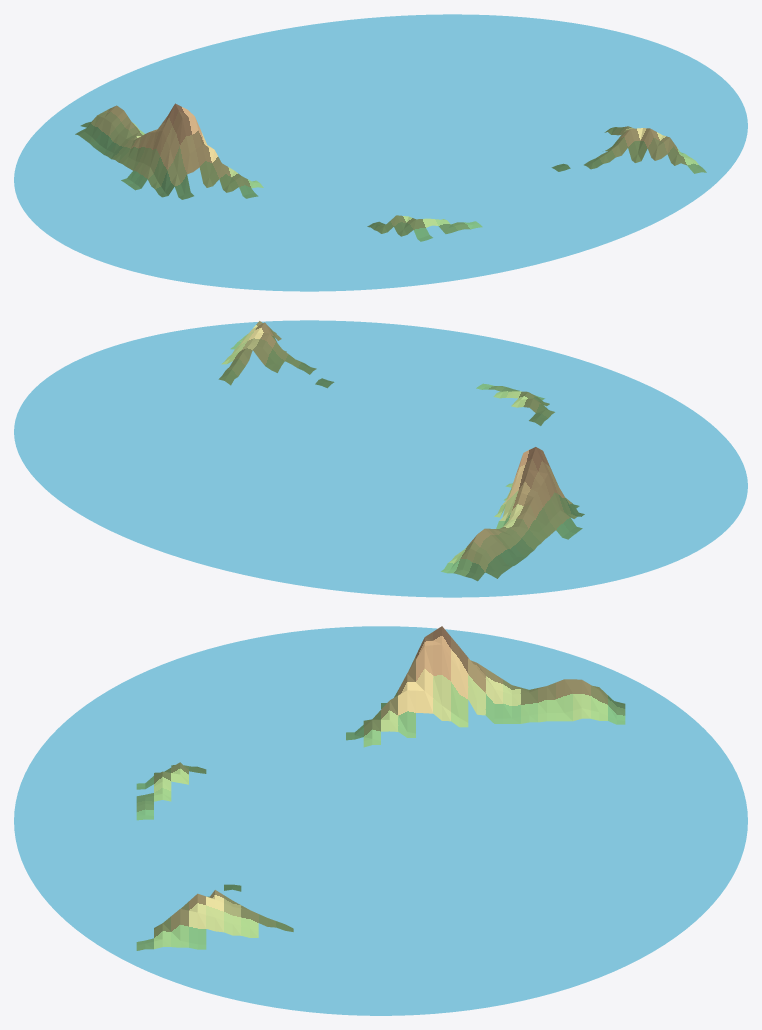
The model's file is COM-terrain.glb.
3 views of the same model, one above another, from view 1: azimuth 30°, elevation 25°; view 2: azimuth 150°, elevation 25°; view 3: azimuth 270°, elevation 25° (orthographic). The views are drawn at different scales.
Visible parts, largest first — view 1: Relevo com hidrografia; view 2: Relevo com hidrografia; view 3: Relevo com hidrografia.
Boxes of the visible parts, x1,y1,x2,y2 form: Relevo com hidrografia: [14, 14, 747, 291]; Relevo com hidrografia: [14, 320, 747, 597]; Relevo com hidrografia: [14, 626, 747, 1015].
Bounding box in the file's own units: 2.46 × 0.2645 × 1.96.
Materials: 2 (1 with a texture image).
